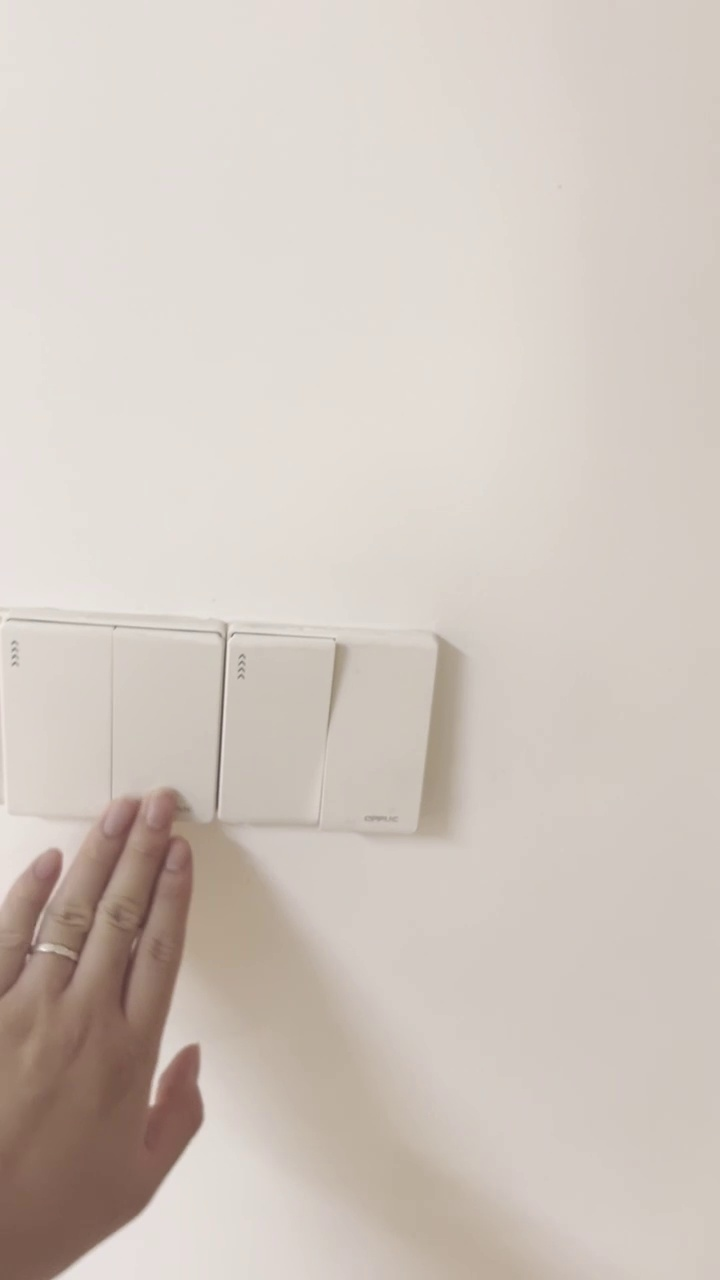button: (1, 609, 218, 826), (221, 624, 441, 831)
